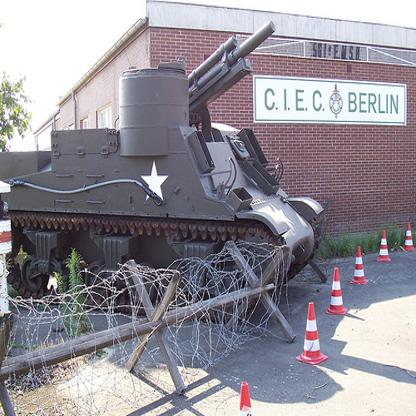Tank: (1, 21, 325, 289)
